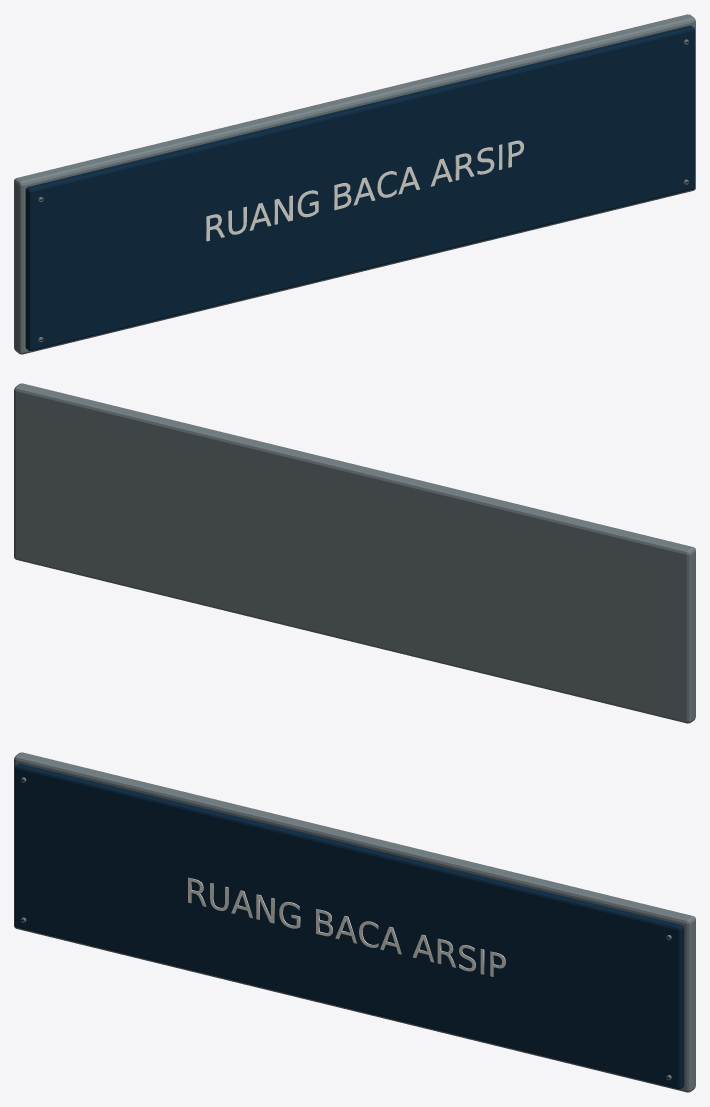
The model's file is OAA_Papan_Ruang_Ruang_Baca_Arsip.fbx.
The picture shows the model from 3 angles, top to bottom: view 1: azimuth 30°, elevation 25°; view 2: azimuth 150°, elevation 25°; view 3: azimuth 330°, elevation 25°; orthographic projection.
Parts seen in each view (by area): view 1: Body; view 2: Body; view 3: Body.
Part boxes in pixels (bbox=[...]): Body: bbox=[14, 14, 695, 354]; Body: bbox=[14, 383, 695, 723]; Body: bbox=[14, 752, 695, 1092].
Size of the model in its own units: 0.9 by 0.22 by 0.0312.
